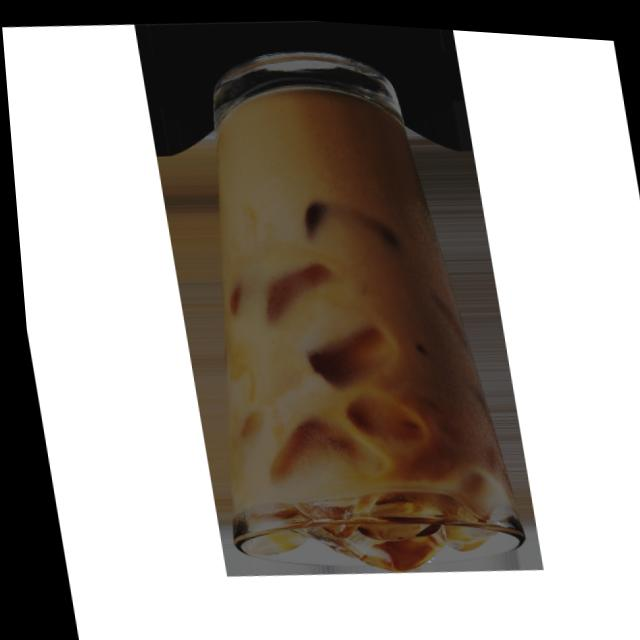drink: (218, 73, 526, 569)
